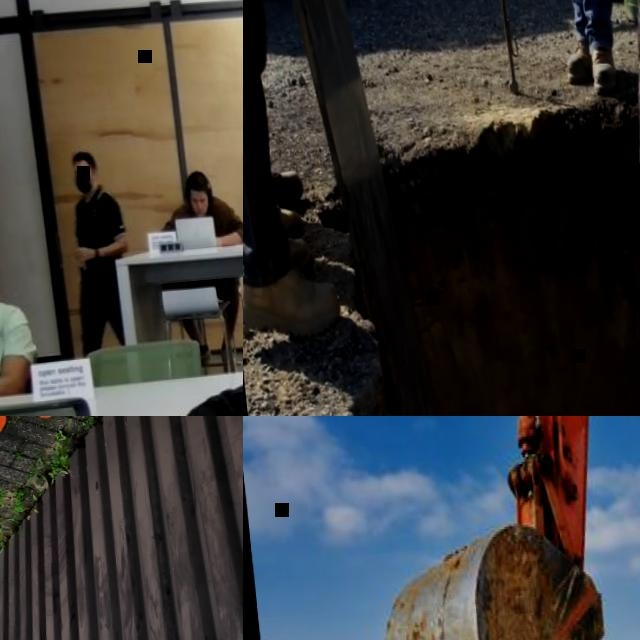Mask: (73, 174, 91, 190)
NO-Hardhat: (182, 169, 208, 191), (72, 147, 94, 166)
NO-Mask: (191, 199, 208, 213)
NO-Safety Vest: (67, 197, 120, 307), (181, 198, 227, 238), (0, 300, 13, 375)
Person: (110, 84, 243, 416), (243, 0, 345, 344), (153, 165, 243, 365), (59, 141, 134, 344), (544, 0, 631, 96), (0, 218, 38, 404)
machinery: (301, 416, 640, 640)
